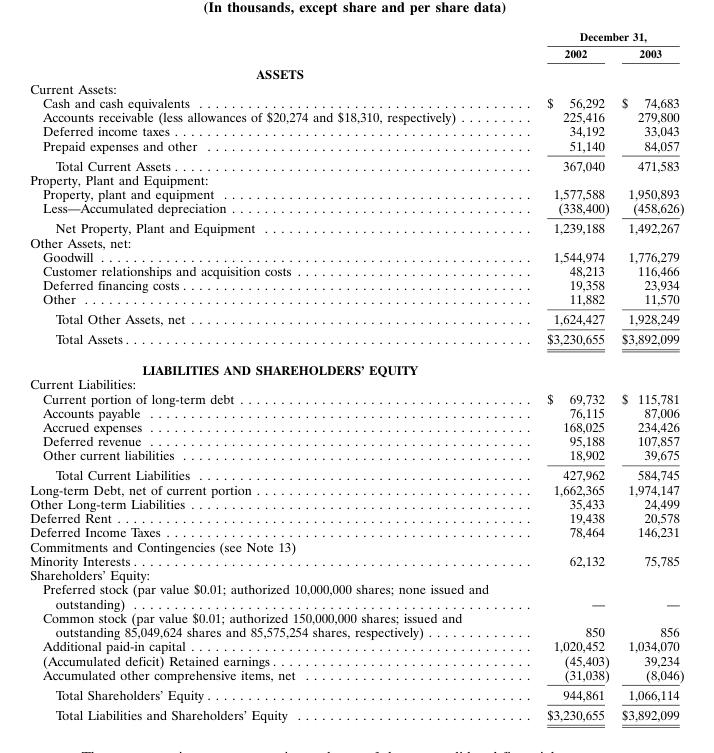table: (29, 29, 683, 722)
table column: (29, 29, 517, 722), (517, 29, 614, 722), (614, 29, 683, 722)
table column header: (29, 29, 683, 63)
table projected row header: (29, 354, 683, 376), (29, 63, 683, 80), (29, 80, 683, 95), (29, 234, 683, 249), (29, 538, 683, 553), (29, 172, 683, 186), (29, 376, 683, 390), (29, 567, 683, 581)
table row: (29, 581, 683, 610), (29, 610, 683, 638), (29, 328, 683, 354), (29, 354, 683, 376), (29, 308, 683, 328), (29, 684, 683, 704), (29, 44, 683, 63), (29, 137, 683, 155), (29, 464, 683, 482), (29, 704, 683, 722), (29, 63, 683, 80), (29, 155, 683, 172), (29, 200, 683, 217), (29, 217, 683, 234), (29, 291, 683, 308), (29, 447, 683, 464), (29, 667, 683, 684), (29, 29, 683, 44), (29, 80, 683, 95), (29, 234, 683, 249), (29, 390, 683, 405), (29, 538, 683, 553), (29, 652, 683, 667), (29, 95, 683, 109), (29, 109, 683, 123), (29, 123, 683, 137), (29, 172, 683, 186), (29, 186, 683, 200), (29, 249, 683, 263), (29, 263, 683, 277), (29, 277, 683, 291), (29, 376, 683, 390), (29, 405, 683, 419), (29, 419, 683, 433), (29, 433, 683, 447), (29, 482, 683, 496), (29, 496, 683, 510), (29, 510, 683, 524), (29, 524, 683, 538), (29, 553, 683, 567), (29, 567, 683, 581), (29, 638, 683, 652)
table spanning cell: (517, 29, 683, 44)
